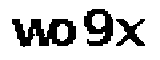9: (81, 6, 115, 50)
o: (51, 17, 79, 49)
w: (8, 15, 54, 52)
x: (115, 17, 147, 48)
